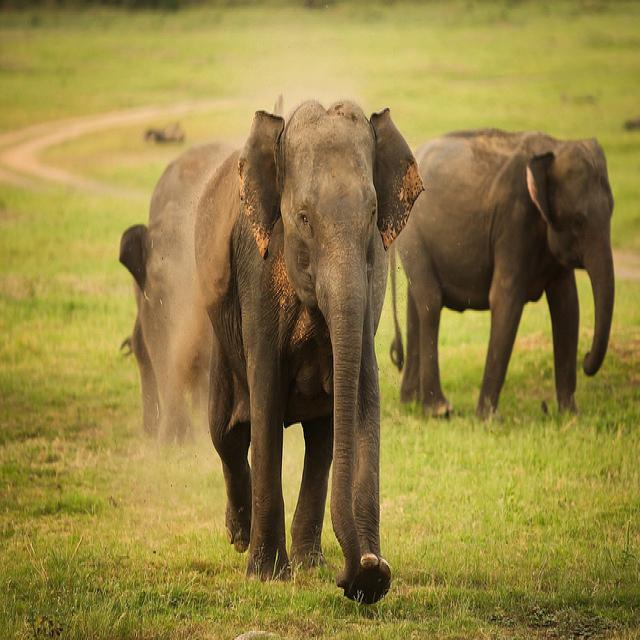Elephant: (193, 96, 424, 604), (391, 126, 615, 421), (118, 138, 241, 448)
